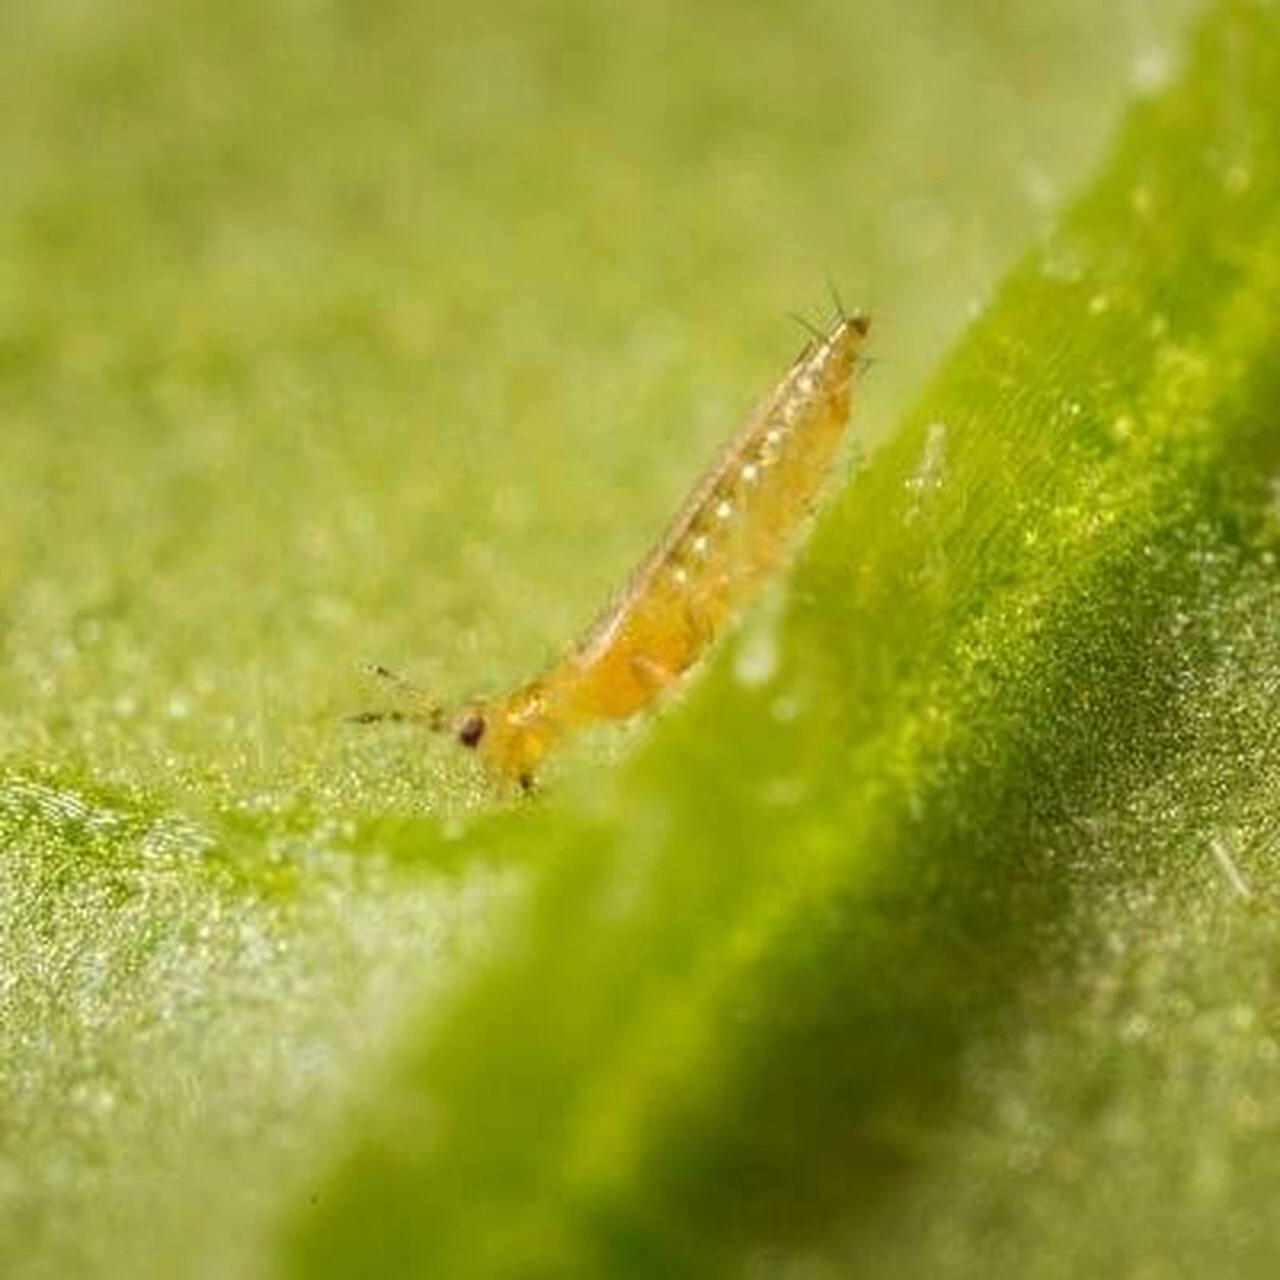Thrips: (400, 278, 876, 808)
